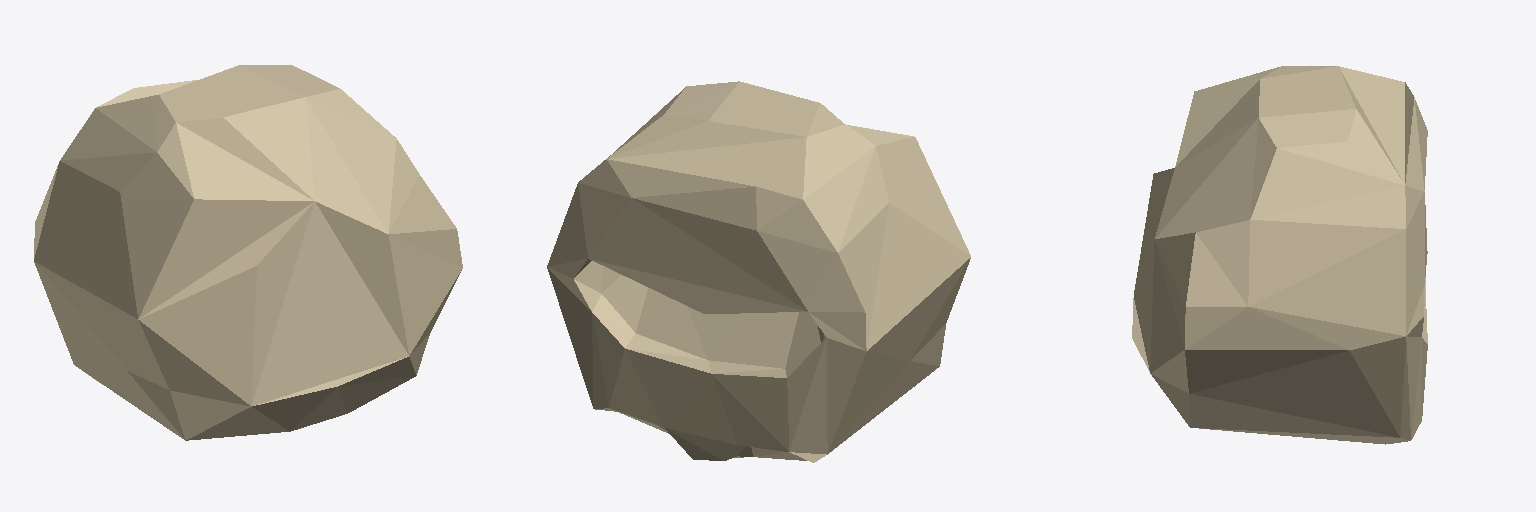
The picture shows the model from 3 angles: view 1: azimuth 30°, elevation 25°; view 2: azimuth 150°, elevation 25°; view 3: azimuth 270°, elevation 25°; orthographic projection.
Parts seen in each view (by area): view 1: 頭; view 2: 頭; view 3: 頭.
Boxes of the visible parts, x1=… form: 頭: x1=34, y1=65, x2=462, y2=440; 頭: x1=547, y1=81, x2=970, y2=462; 頭: x1=1132, y1=66, x2=1427, y2=444.
Bounding box in the file's own units: 1.1 × 1.03 × 0.8763.
Materials: 1 (1 with a texture image).